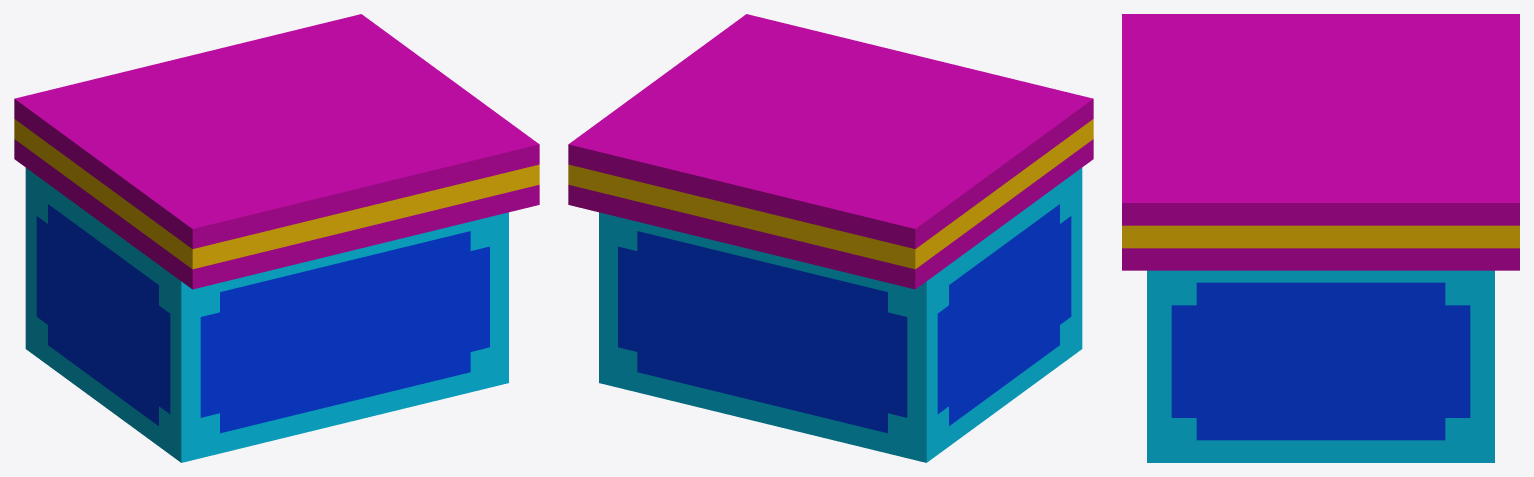
File: wall_1x1.obj
3 views of the same model, side by side, from view 1: azimuth 30°, elevation 25°; view 2: azimuth 150°, elevation 25°; view 3: azimuth 270°, elevation 25° (orthographic). The views are drawn at different scales.
Size of the model in its own units: 1.8 by 1.2 by 1.6.
Materials: 1 (1 with a texture image).
